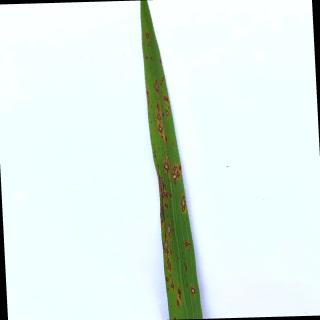Blast: (157, 175, 166, 196), (162, 237, 170, 253), (180, 194, 187, 212), (160, 204, 166, 225), (163, 158, 170, 172), (166, 222, 172, 238), (167, 256, 172, 274), (154, 80, 160, 93), (184, 239, 190, 250), (163, 96, 170, 104), (158, 123, 163, 134), (176, 298, 181, 309), (156, 113, 162, 121), (190, 286, 196, 294), (145, 32, 150, 40), (156, 102, 160, 111), (170, 281, 174, 290), (165, 109, 169, 118), (172, 173, 177, 180), (178, 287, 181, 297), (177, 170, 180, 178), (165, 276, 169, 282), (174, 164, 176, 171)
